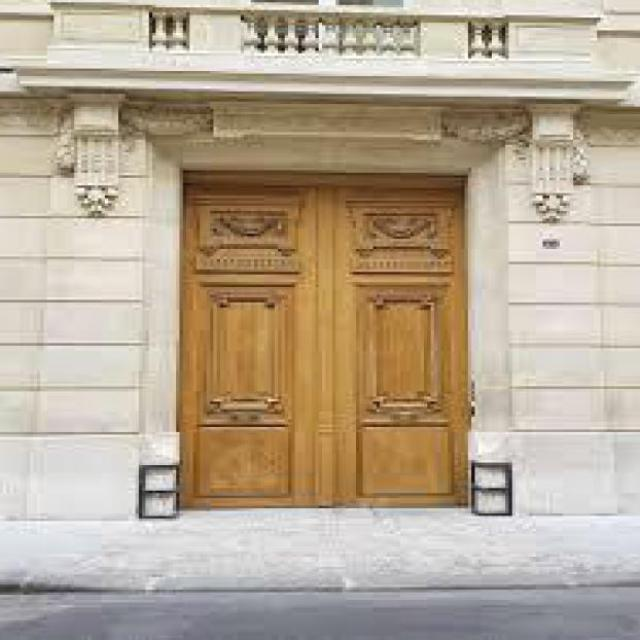door: (182, 173, 324, 509), (326, 177, 466, 510)
